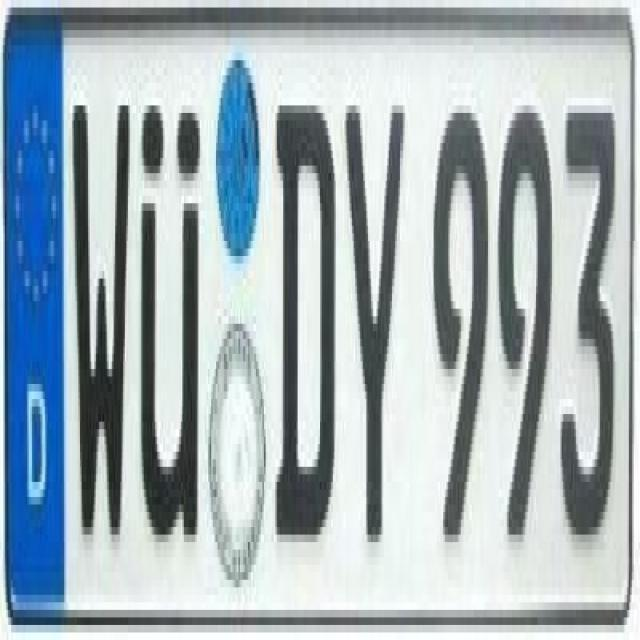Allemagne: (6, 21, 62, 610)
EU: (3, 21, 634, 621)
